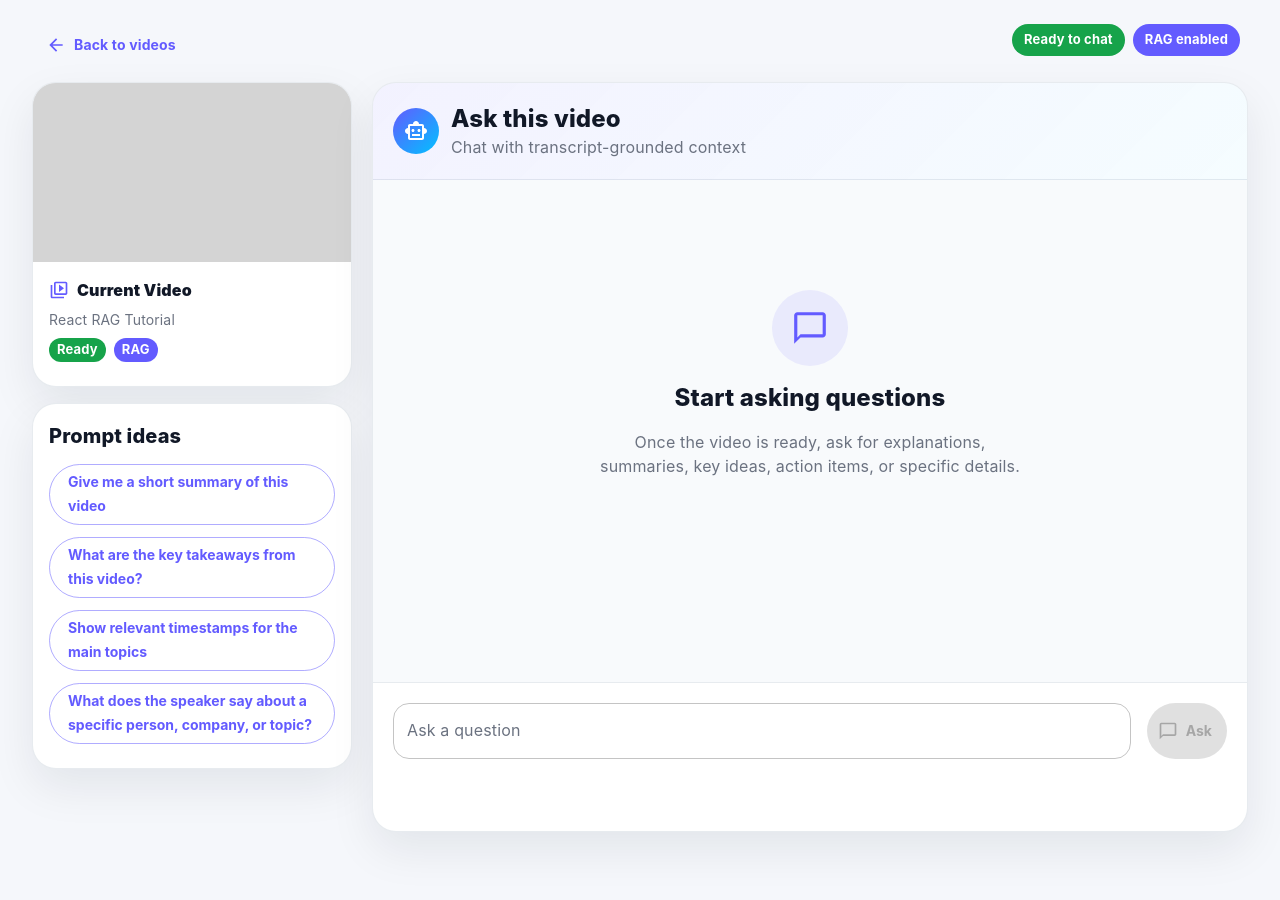
Test: VideoChatPage › sets prompt idea into question input
The image size is (1280, 900).
Expected: the heading "Prompt ideas" is shown, [49,424,181,448]
Click the button "Give me a short summary of this video" at point(178, 481), box [49,464,335,525]
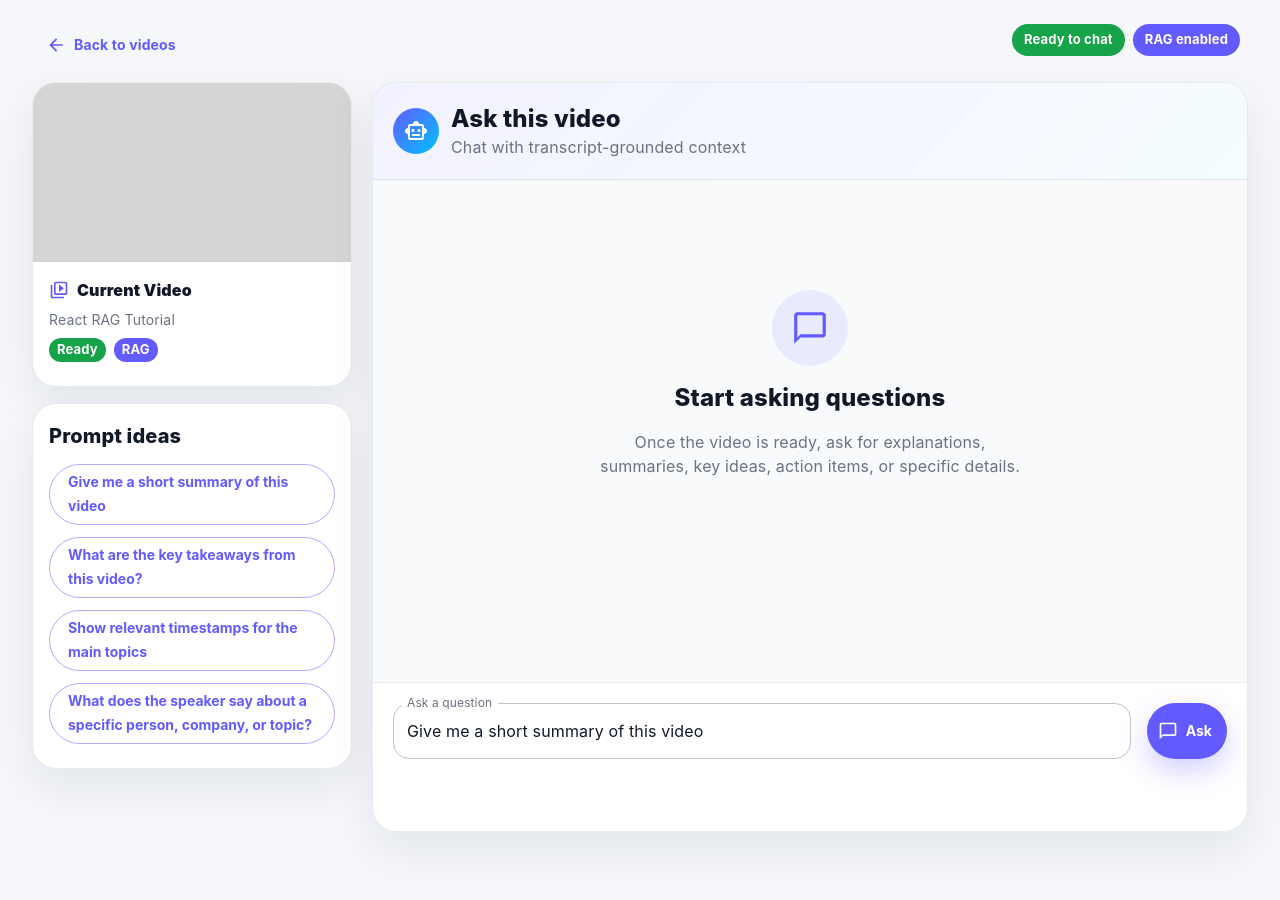
Expected: the field labelled "Ask a question" holds "Give me a short summary of this video", [393,703,1130,759]
